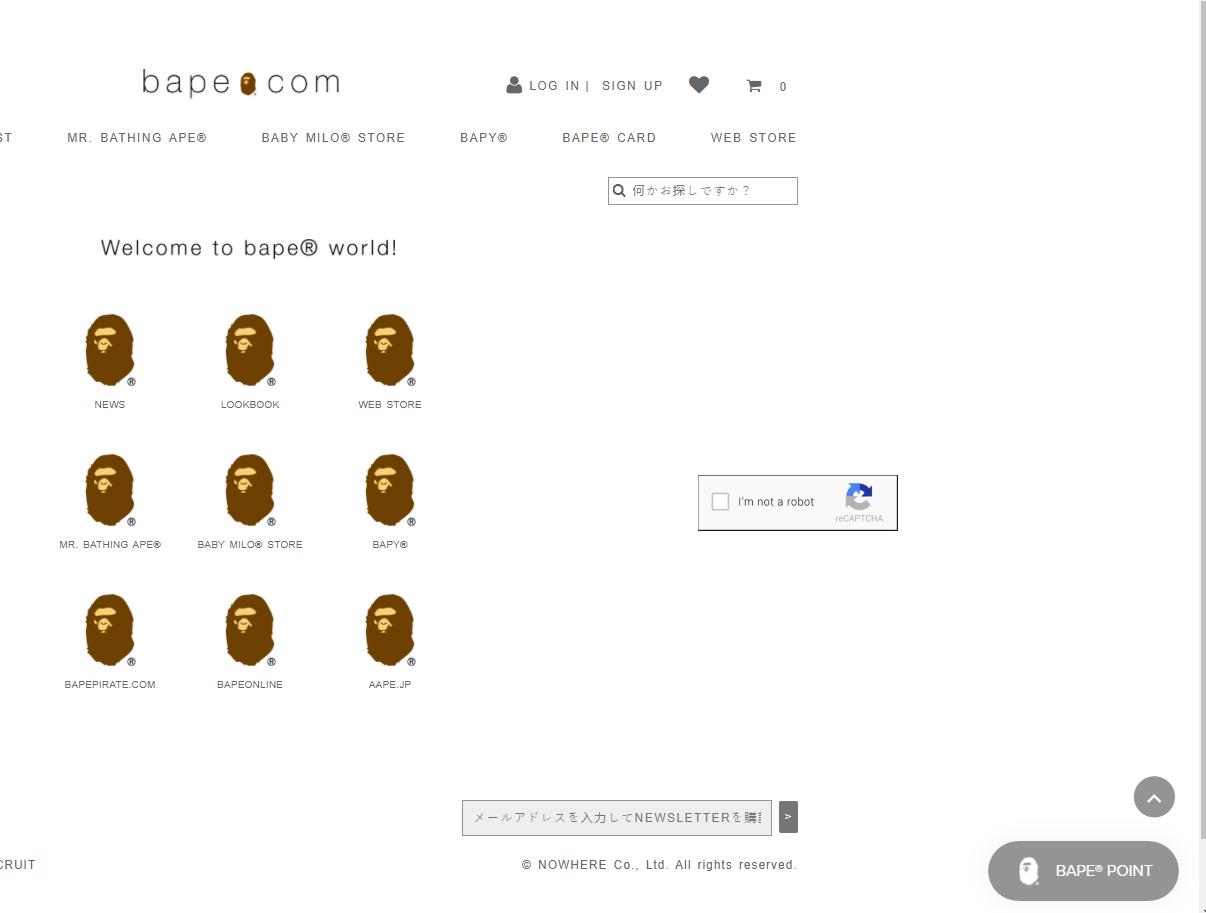captcha: (690, 469, 911, 537)
